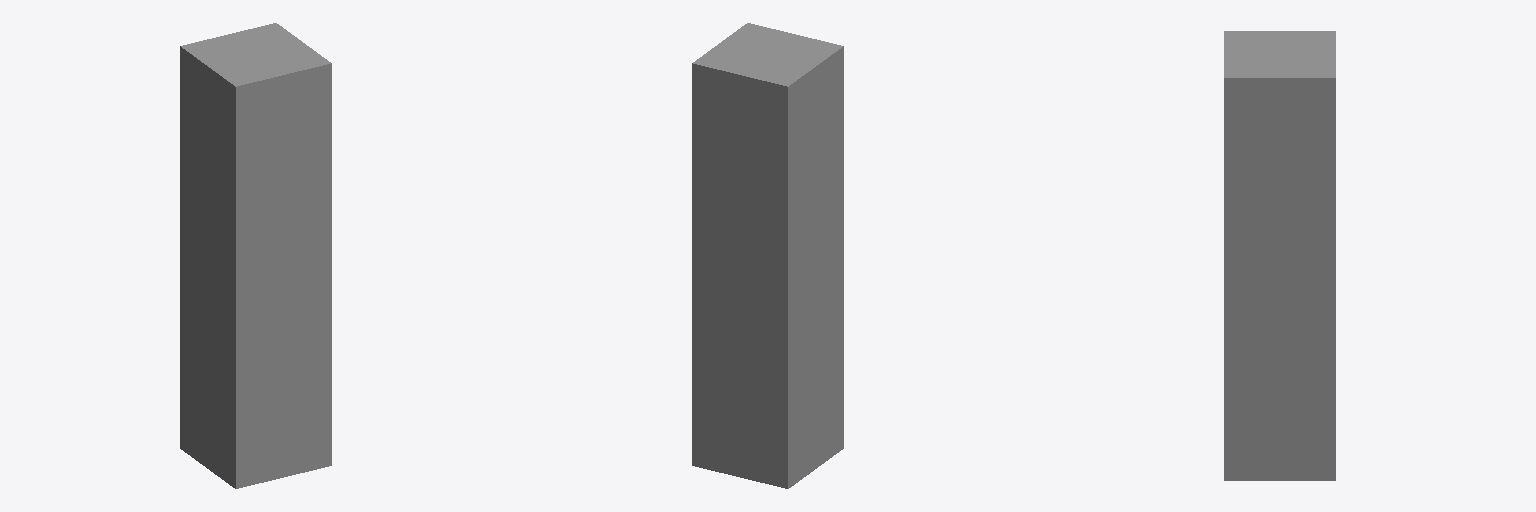
Rendered from ske_box.obj.
3 views of the same model, side by side, from view 1: azimuth 30°, elevation 25°; view 2: azimuth 150°, elevation 25°; view 3: azimuth 270°, elevation 25° (orthographic).
Visible parts, largest first — view 1: ske_box; view 2: ske_box; view 3: ske_box.
Boxes of the visible parts, box(x1,y1,x2,y2) form: ske_box: box(180, 23, 331, 488); ske_box: box(692, 23, 843, 488); ske_box: box(1224, 31, 1335, 480).
Size of the model in its own units: 0.5 by 2 by 0.5.